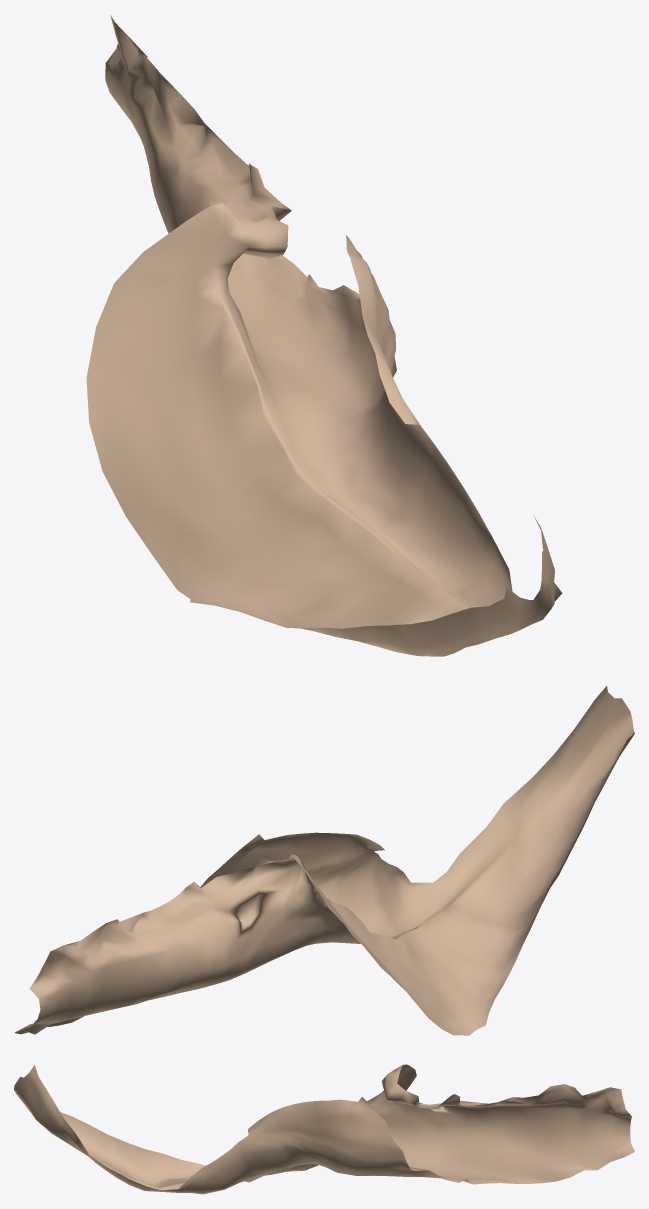
3 renders of one model, top to bottom at view 1: azimuth 30°, elevation 25°; view 2: azimuth 150°, elevation 25°; view 3: azimuth 270°, elevation 25°, orthographic. The views are drawn at different scales.
Parts seen in each view (by area): view 1: 左侧髂腰筋膜; view 2: 左侧髂腰筋膜; view 3: 左侧髂腰筋膜.
Part boxes in pixels (box(x1,y1,x2,y2)): 左侧髂腰筋膜: box(86, 15, 562, 656); 左侧髂腰筋膜: box(14, 686, 634, 1035); 左侧髂腰筋膜: box(14, 1064, 634, 1194).
Size of the model in its own units: 0.1431 by 0.1262 by 0.4966.
